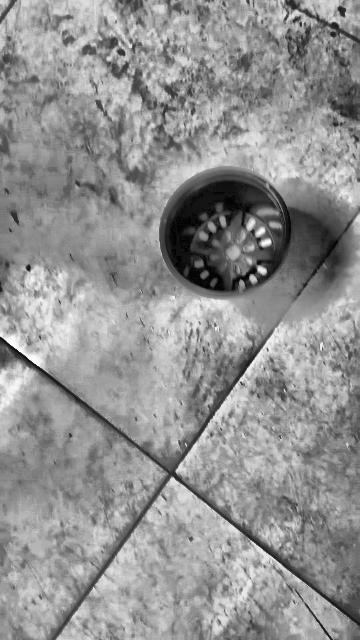pot: (160, 167, 292, 297)
